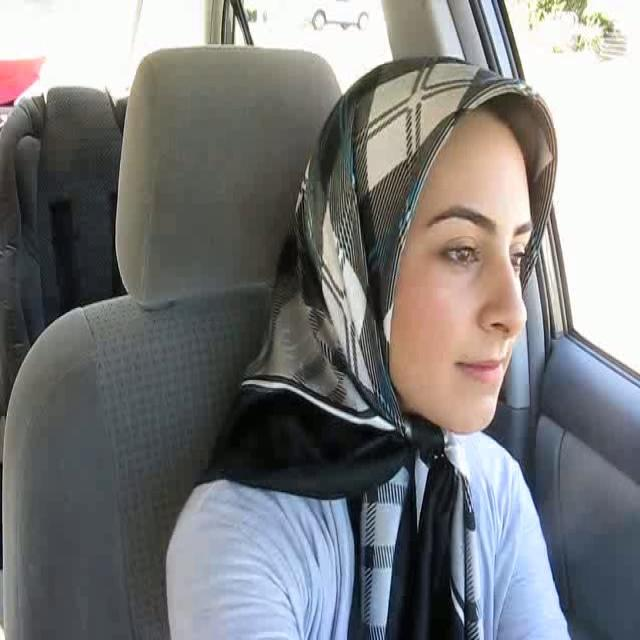close: (451, 350, 513, 390)
